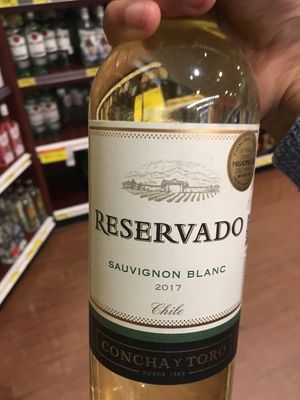reservado sauvignon blanc: (64, 39, 265, 400)
